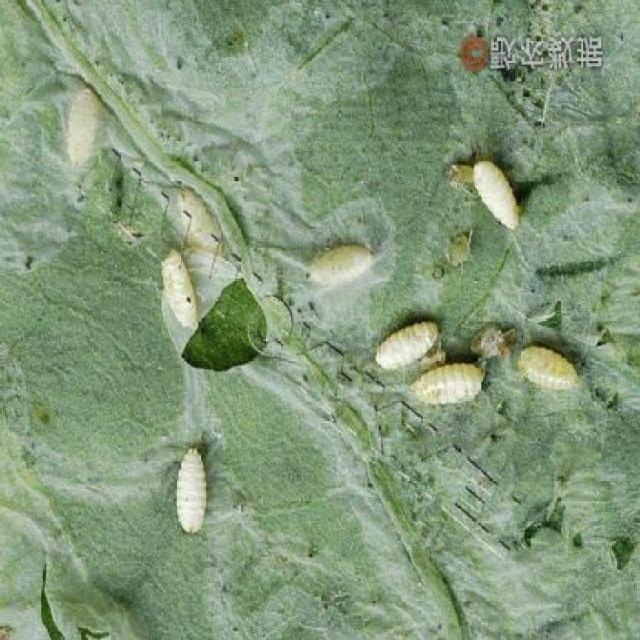whorl-maggot: (463, 155, 531, 233), (367, 315, 447, 376), (406, 362, 500, 410), (516, 338, 587, 399), (306, 239, 383, 293), (174, 440, 214, 538), (66, 76, 99, 176), (161, 246, 201, 328)
